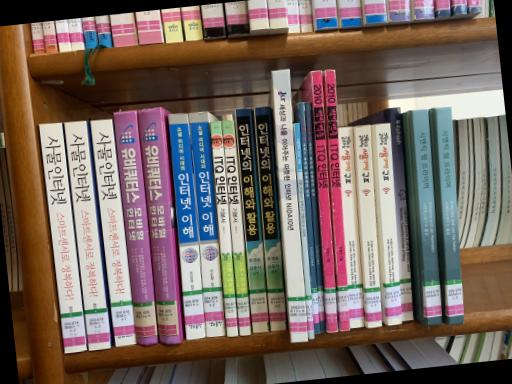book-spine: (39, 122, 86, 353), (64, 121, 111, 350), (90, 119, 137, 347), (114, 110, 159, 345), (138, 106, 181, 344), (272, 69, 308, 342), (168, 113, 205, 339), (189, 111, 225, 336), (235, 108, 268, 333), (254, 106, 285, 331), (410, 109, 442, 325), (311, 70, 337, 331), (433, 106, 464, 324), (324, 70, 349, 330), (222, 120, 250, 336), (209, 121, 237, 336), (355, 125, 382, 327), (388, 107, 413, 321), (375, 122, 401, 325), (339, 127, 364, 328), (299, 102, 320, 332), (304, 102, 325, 332), (293, 123, 314, 338)
